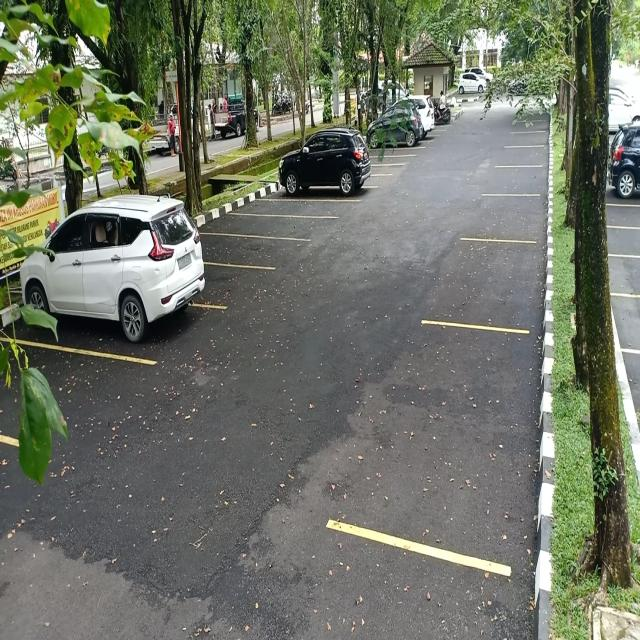empty: (407, 322, 532, 574), (455, 236, 542, 335), (470, 192, 542, 246), (206, 232, 295, 268), (225, 212, 302, 240), (247, 198, 340, 218)
occupied: (14, 230, 211, 356), (276, 142, 372, 203)
